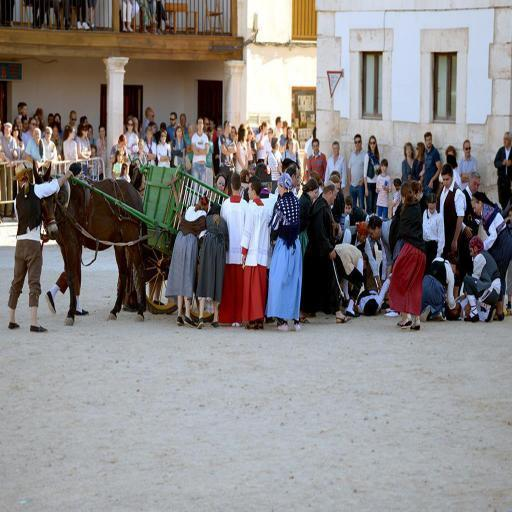horse: (33, 160, 147, 328)
